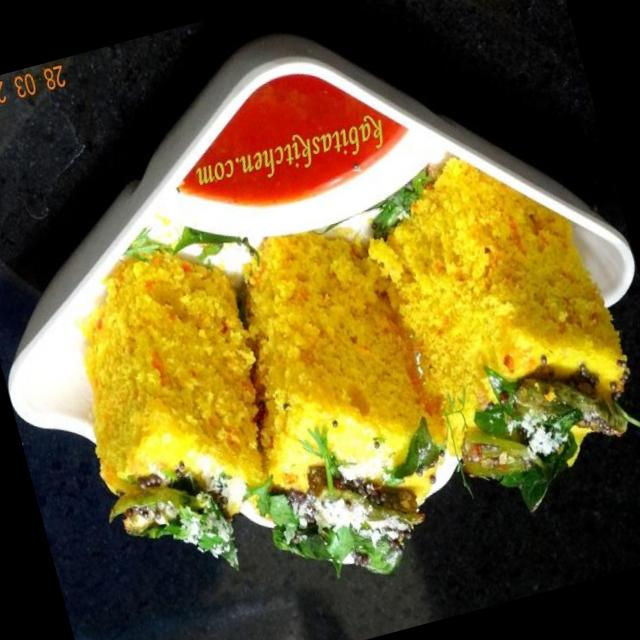dhokla: (44, 205, 456, 640), (362, 144, 640, 510)
